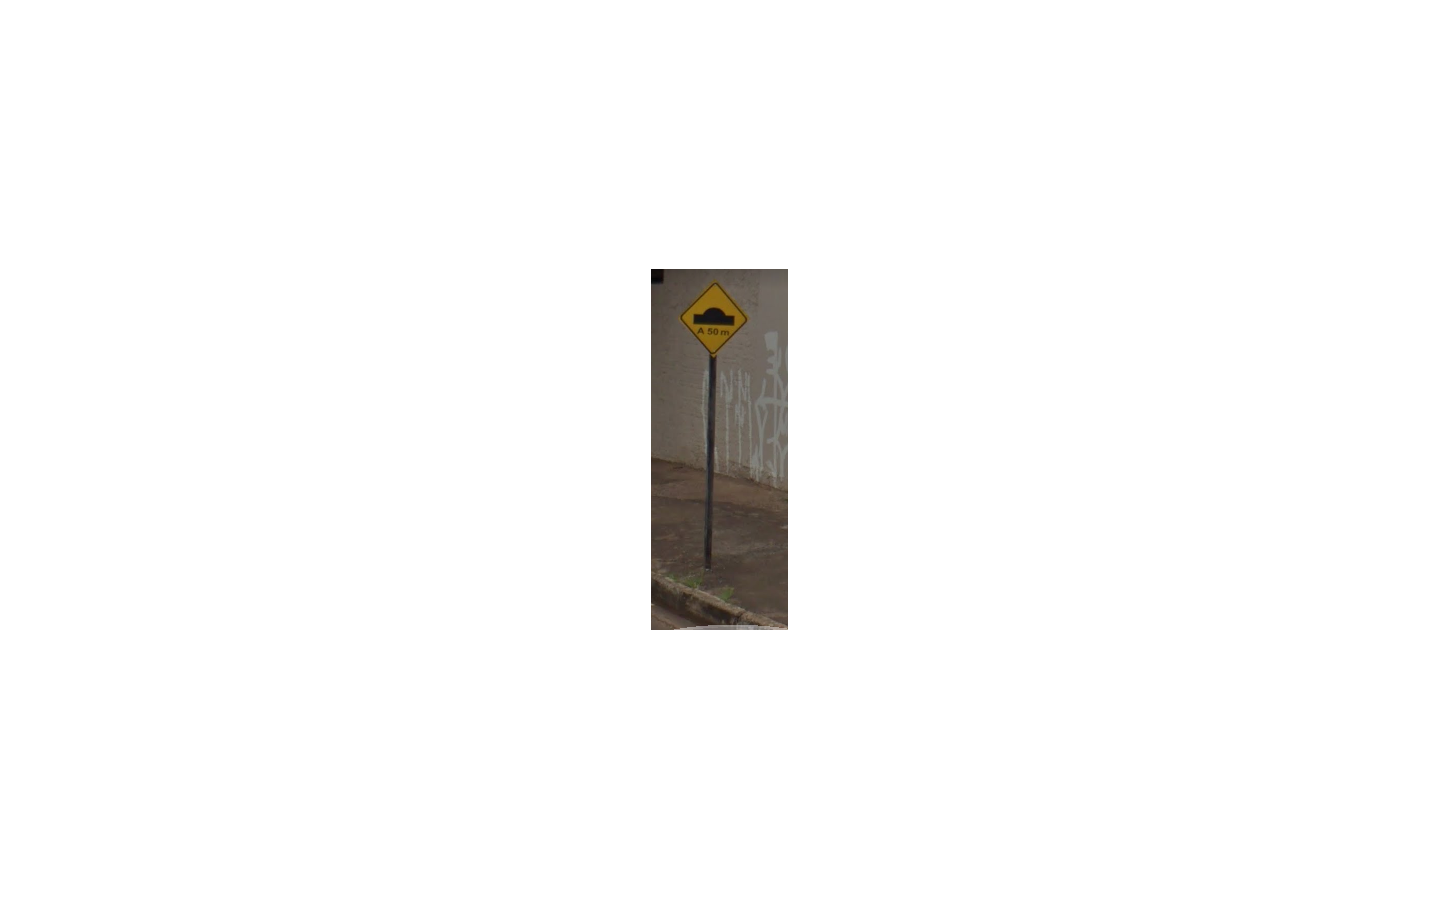t50m: (679, 282, 747, 356)
